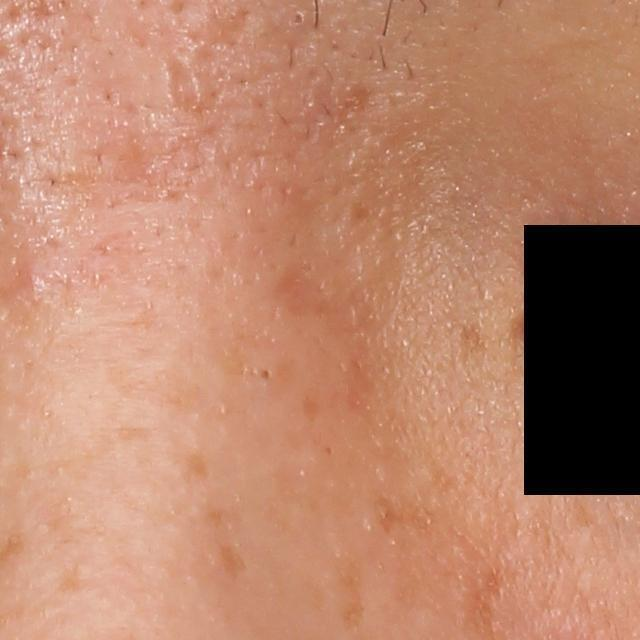atrophic_scar: (160, 48, 208, 119)
comedo: (252, 361, 278, 391), (290, 6, 314, 27)
melasma: (364, 488, 443, 539), (336, 552, 374, 636), (174, 447, 219, 491), (213, 542, 250, 581), (59, 560, 88, 599), (300, 393, 326, 426)
